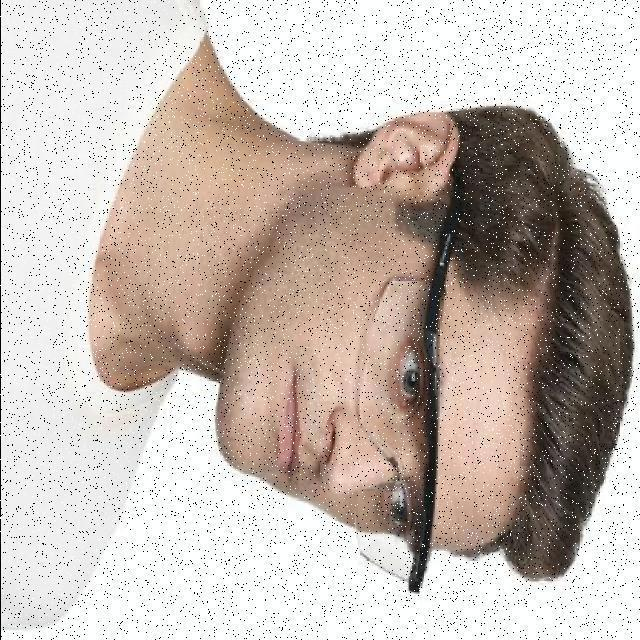Goggles: (336, 151, 485, 619)
